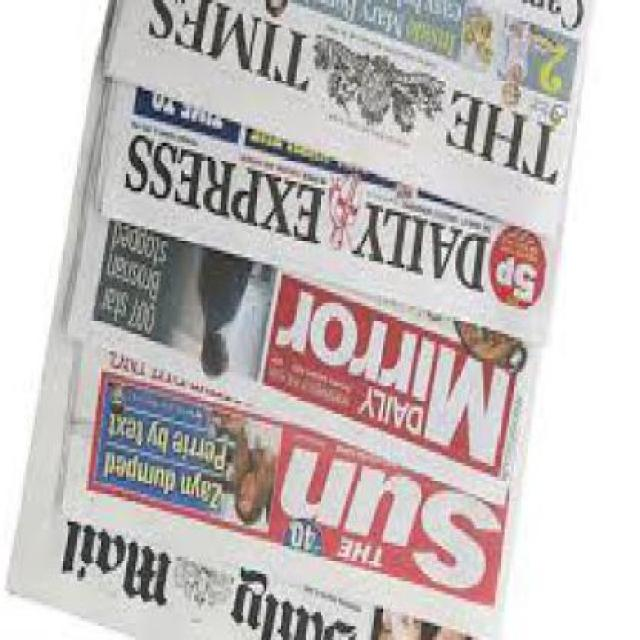PAPER: (6, 121, 482, 638), (65, 258, 521, 639), (68, 154, 532, 508), (98, 59, 560, 348), (107, 4, 588, 244)
